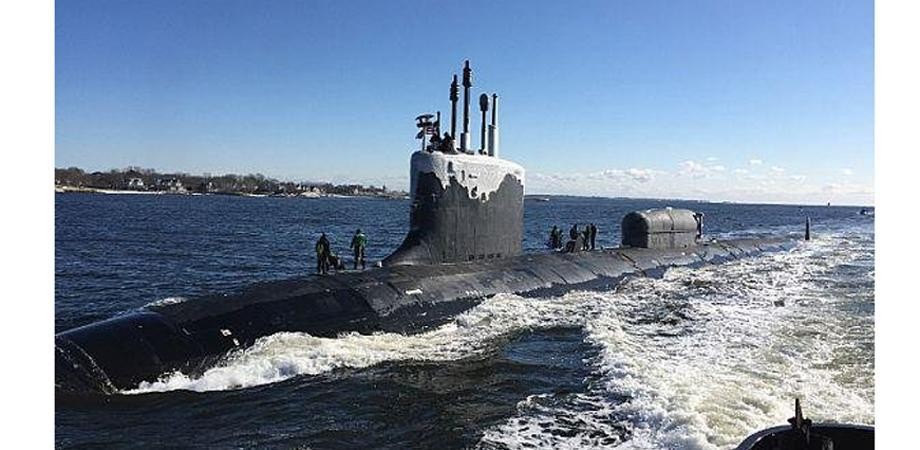Submarine: (58, 61, 872, 419)
